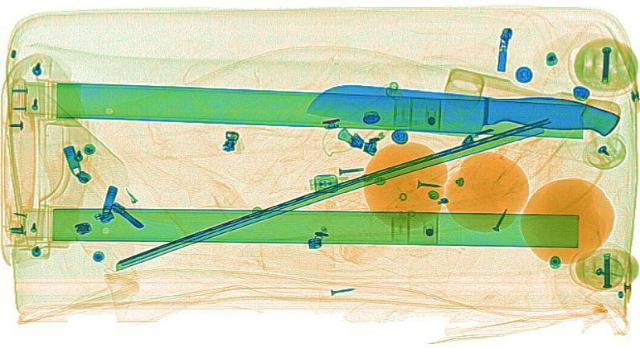Knife: (302, 82, 624, 141)
